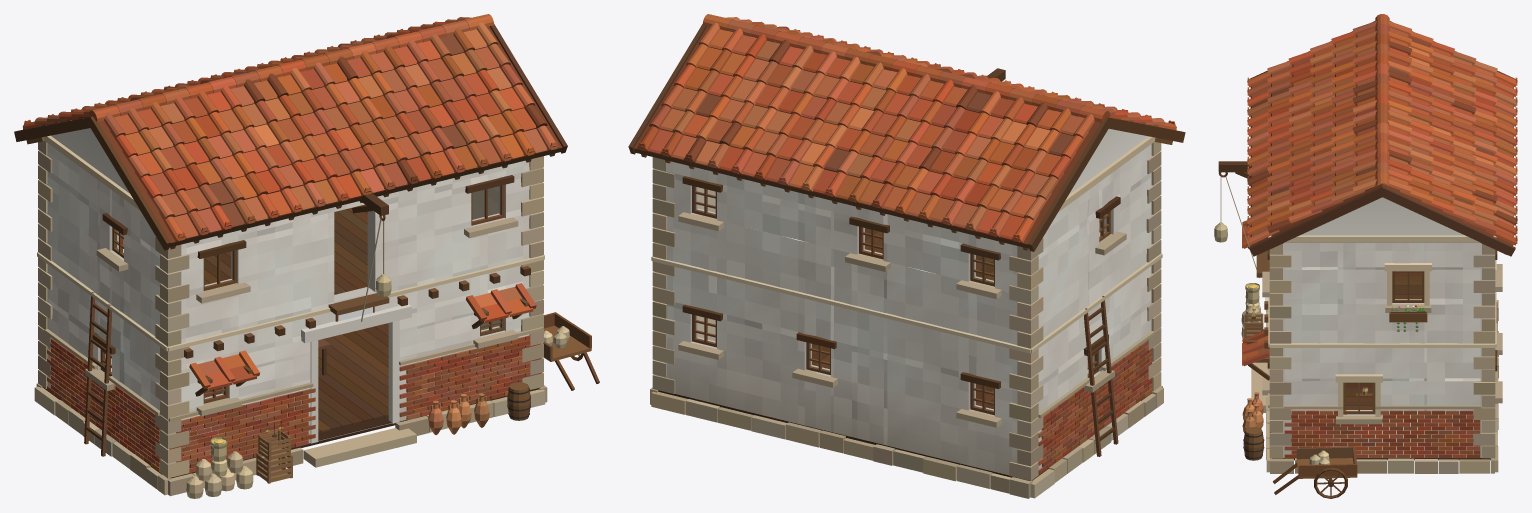
File: civ_warehouse.glb
3 views of the same model, side by side, from view 1: azimuth 30°, elevation 25°; view 2: azimuth 150°, elevation 25°; view 3: azimuth 270°, elevation 25° (orthographic). The views are drawn at different scales.
Parts seen in each view (by area): view 1: House, Walls, Rooms; view 2: House, Walls, Rooms; view 3: House, Walls, Rooms.
Part boxes in pixels (bbox=[...]): House: bbox=[14, 14, 599, 498]; Walls: bbox=[47, 128, 540, 468]; Rooms: bbox=[111, 186, 498, 433]; House: bbox=[628, 14, 1185, 498]; Walls: bbox=[656, 129, 1152, 475]; Rooms: bbox=[698, 187, 1100, 409]; House: bbox=[1214, 14, 1517, 498]; Walls: bbox=[1271, 197, 1493, 457]; Rooms: bbox=[1345, 271, 1421, 409].
Size of the model in its own units: 7.86 by 5.56 by 5.19.
6 materials, 6 textured.
